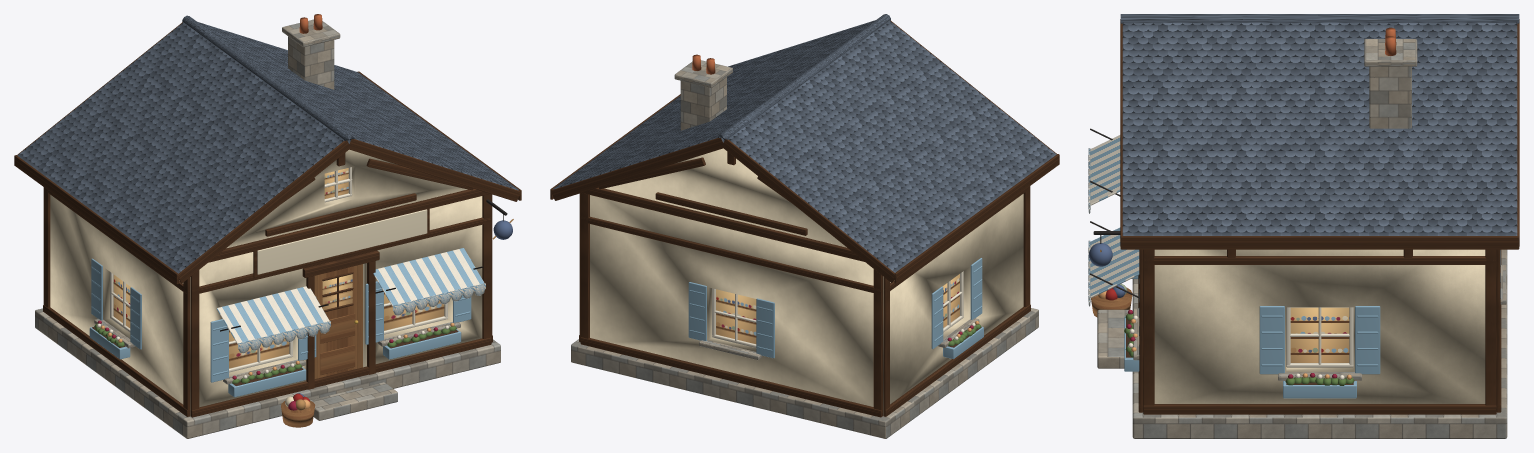
File: building_shop.glb
3 views of the same model, side by side, from view 1: azimuth 30°, elevation 25°; view 2: azimuth 150°, elevation 25°; view 3: azimuth 270°, elevation 25° (orthographic). The views are drawn at different scales.
Visible parts, largest first — view 1: model; view 2: model; view 3: model.
Boxes of the visible parts, box(x1,y1,x2,y2) form: model: box(14, 14, 521, 438); model: box(550, 14, 1059, 438); model: box(1088, 14, 1519, 438).
Size of the model in its own units: 6.91 by 5.54 by 6.1.
27 materials, 8 textured.
